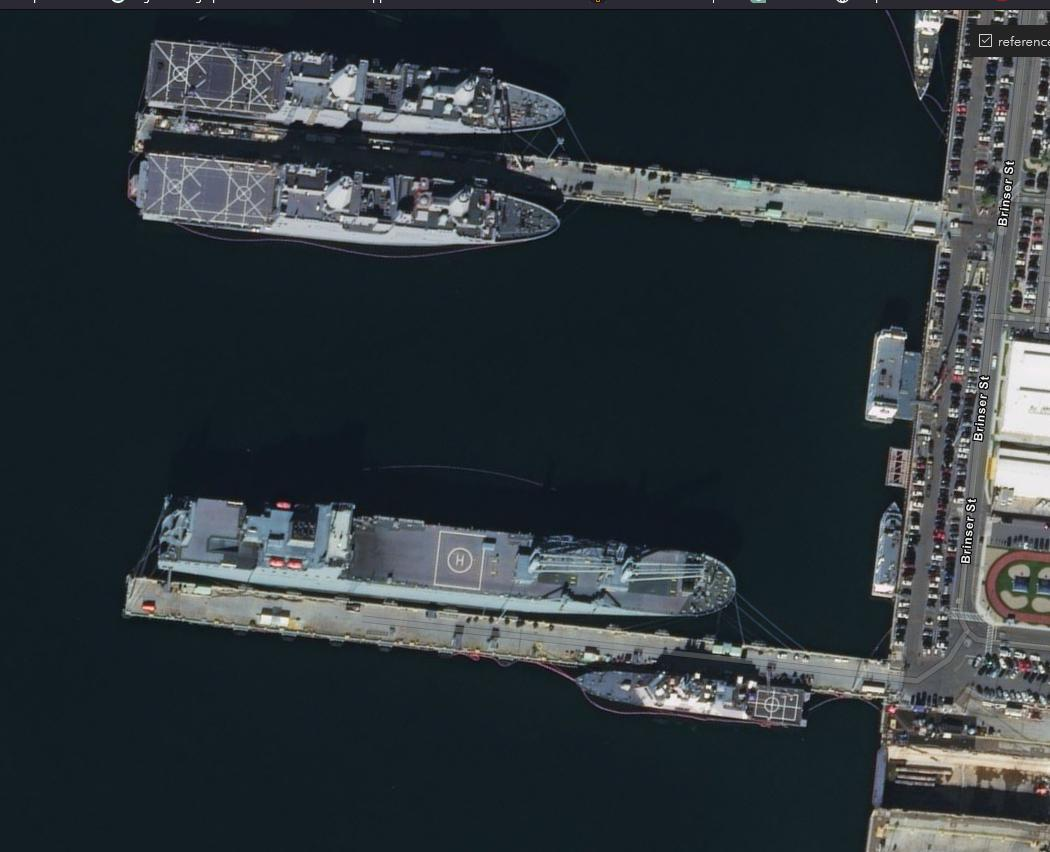amphiby: (138, 38, 574, 147), (131, 146, 565, 251)
patrol: (568, 664, 817, 734)
supply: (150, 487, 741, 625)
